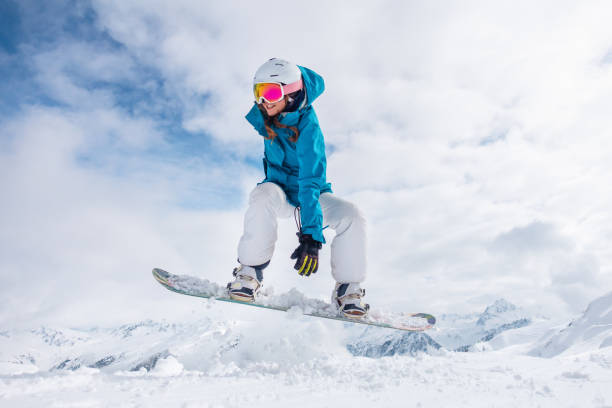snowboarder: (125, 37, 453, 344)
